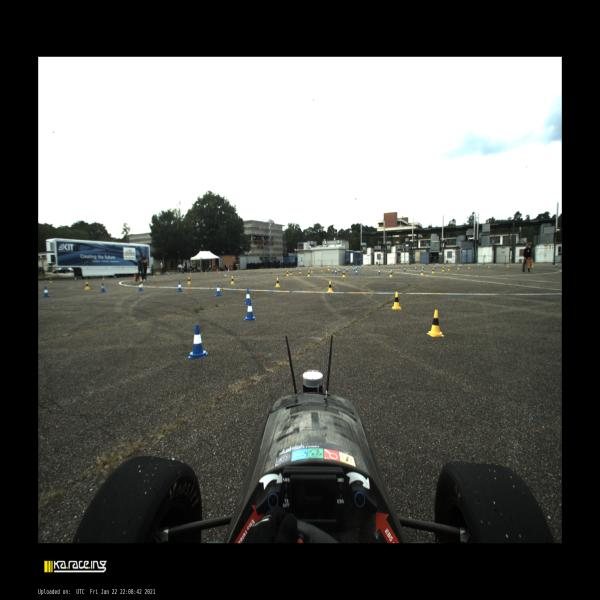blue_cone: (188, 325, 208, 358), (244, 300, 257, 320), (244, 289, 249, 305), (215, 284, 221, 296), (43, 287, 50, 297), (177, 282, 183, 292), (138, 282, 144, 291), (101, 283, 106, 292), (355, 268, 358, 275), (334, 269, 337, 274), (404, 266, 406, 272), (332, 268, 334, 274), (477, 263, 480, 267), (74, 276, 76, 282), (378, 269, 380, 274), (346, 267, 348, 272), (391, 268, 393, 273), (415, 266, 417, 270), (338, 268, 340, 272), (422, 266, 424, 270), (341, 264, 343, 268), (355, 266, 357, 270), (184, 272, 186, 275), (294, 266, 296, 269), (495, 263, 497, 266), (460, 263, 461, 268), (115, 275, 116, 279), (260, 268, 262, 270), (266, 268, 268, 270), (356, 266, 358, 268), (434, 265, 435, 268), (168, 273, 169, 276), (225, 269, 226, 272), (251, 268, 252, 271), (358, 265, 359, 268), (556, 263, 557, 266), (201, 271, 202, 273), (238, 269, 239, 271), (280, 267, 281, 269), (348, 265, 349, 267), (353, 268, 354, 270), (362, 266, 363, 268), (353, 265, 354, 267)
large_orange_cone: (216, 268, 218, 272), (228, 268, 229, 272)
yellow_cone: (427, 310, 444, 336), (392, 292, 402, 310), (327, 281, 333, 292), (275, 278, 280, 287), (230, 276, 235, 285), (85, 281, 90, 290), (188, 276, 192, 284), (342, 270, 346, 278), (431, 268, 435, 274), (389, 271, 393, 277), (421, 269, 424, 276), (286, 270, 289, 277), (49, 278, 52, 283), (308, 270, 310, 277), (442, 266, 444, 272), (290, 269, 292, 275), (102, 276, 105, 280), (142, 280, 144, 286), (448, 266, 450, 271), (300, 269, 302, 274), (311, 268, 313, 273), (507, 264, 509, 268), (488, 264, 490, 268), (468, 265, 470, 269), (321, 268, 323, 272), (153, 273, 155, 277), (205, 270, 207, 274), (248, 268, 250, 272), (328, 267, 330, 271), (236, 269, 238, 272), (273, 267, 275, 270), (458, 265, 459, 270), (190, 272, 192, 274), (532, 263, 533, 267), (134, 275, 135, 278), (219, 270, 220, 273), (285, 267, 286, 269), (297, 266, 298, 268), (337, 266, 338, 268)
